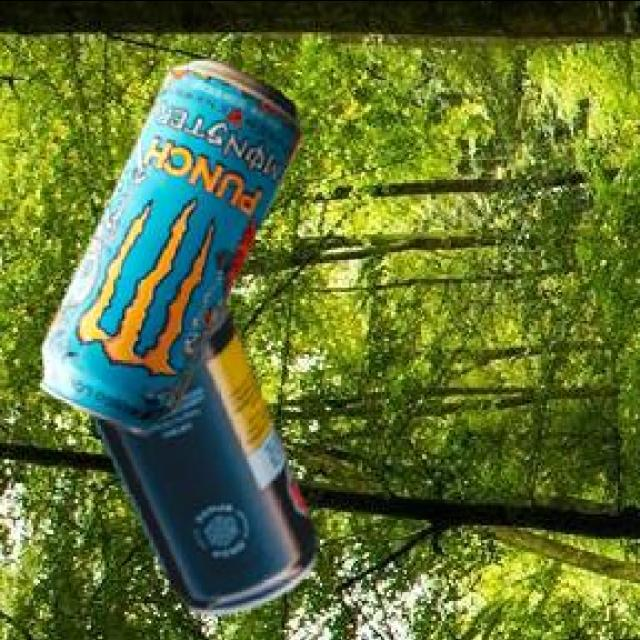logam: (37, 63, 299, 437), (90, 310, 312, 617)
